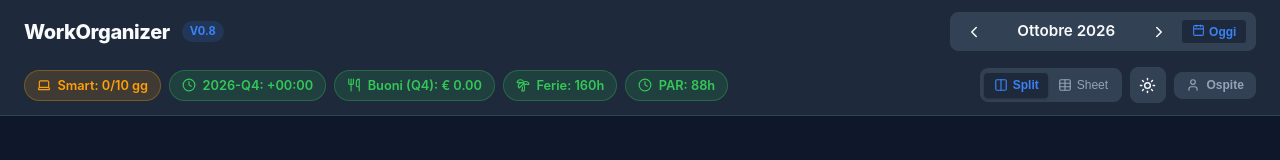
Header & Global Navigation Components › MonthSelector Component › navigates to previous month, next month, and today
Step 1. Click the button with test id "btn-next-month" → (1159, 32), box [1144,17,1174,46]
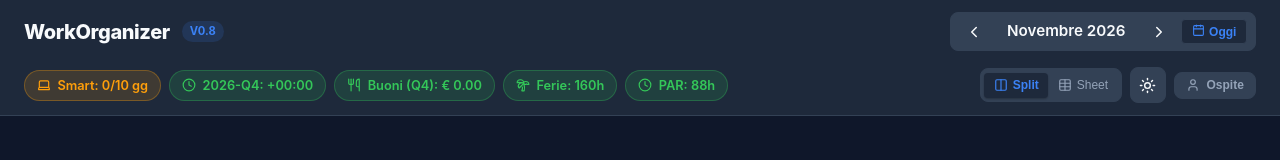
expect the text with test id "month-display" reads "Novembre 2026": met, box [1007,21,1126,40]
Step 2. Click the button with test id "btn-prev-month" → (974, 32), box [959,17,988,46]
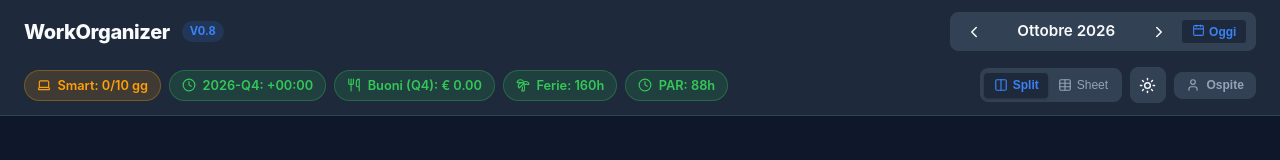
expect the text with test id "month-display" reads "Ottobre 2026": met, box [1017,21,1115,40]
Step 3. Click the button with test id "btn-prev-month" → (974, 32), box [959,17,988,46]
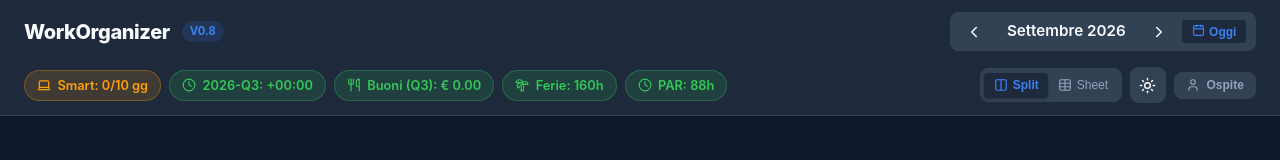
expect the text with test id "month-display" reads "Settembre 2026": met, box [1007,21,1126,40]
# Click today button
Step 4. Click the button with test id "btn-today" → (1214, 32), box [1182,19,1247,44]
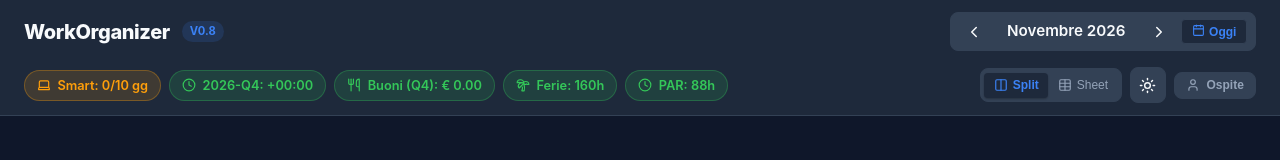
expect the text with test id "month-display" reads "Novembre 2026": met, box [1007,21,1126,40]
